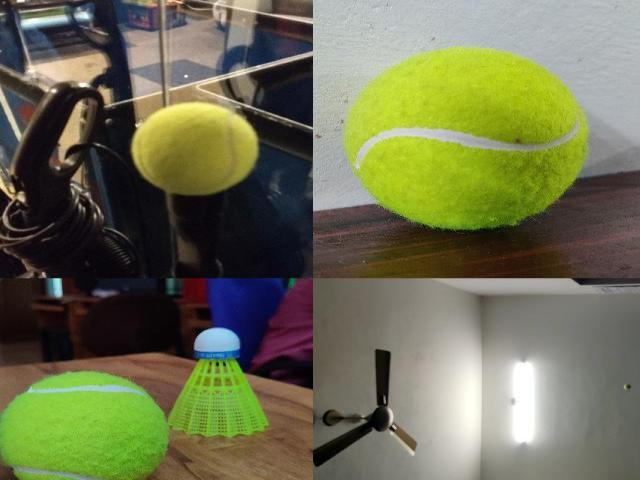tennis-ball: (342, 45, 590, 230), (0, 371, 167, 479), (130, 102, 260, 196), (624, 384, 630, 389)
